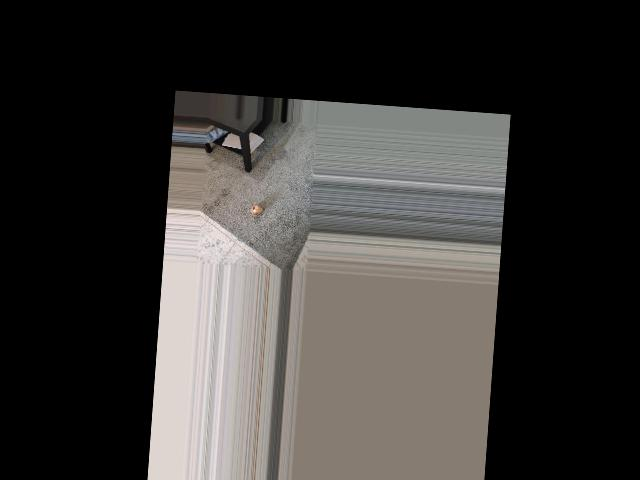onion: (249, 203, 267, 219)
